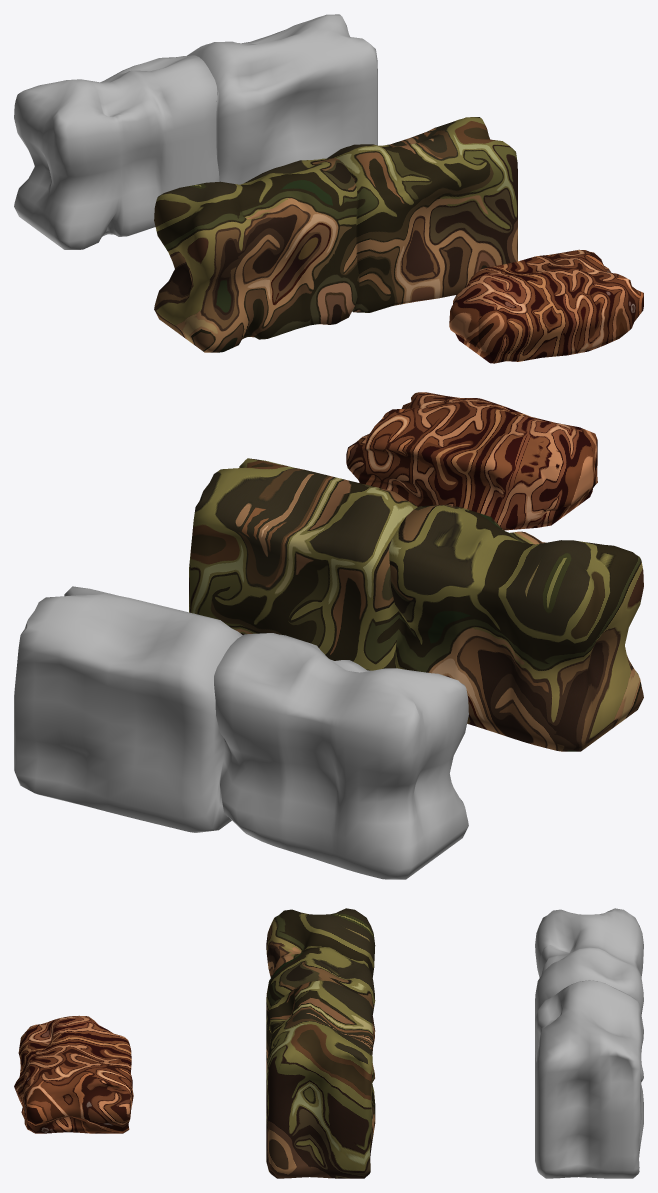
Rendered from PARED_CORAL.fbx.
3 views of the same model, one above another, from view 1: azimuth 30°, elevation 25°; view 2: azimuth 150°, elevation 25°; view 3: azimuth 270°, elevation 25° (orthographic). The views are drawn at different scales.
Visible parts, largest first — view 1: Pared_Coral, Pared_Coral1, Pared_Coral2; view 2: Pared_Coral1, Pared_Coral, Pared_Coral2; view 3: Pared_Coral, Pared_Coral1, Pared_Coral2.
Boxes of the visible parts, x1,y1,x2,y2 form: Pared_Coral: (154, 117, 517, 352); Pared_Coral1: (14, 14, 377, 249); Pared_Coral2: (449, 249, 643, 363); Pared_Coral1: (14, 586, 468, 879); Pared_Coral: (189, 458, 643, 751); Pared_Coral2: (346, 392, 597, 530); Pared_Coral: (266, 908, 375, 1178); Pared_Coral1: (535, 908, 643, 1178); Pared_Coral2: (14, 1015, 133, 1133).
Size of the model in its own units: 9.34 by 4.15 by 16.68.
